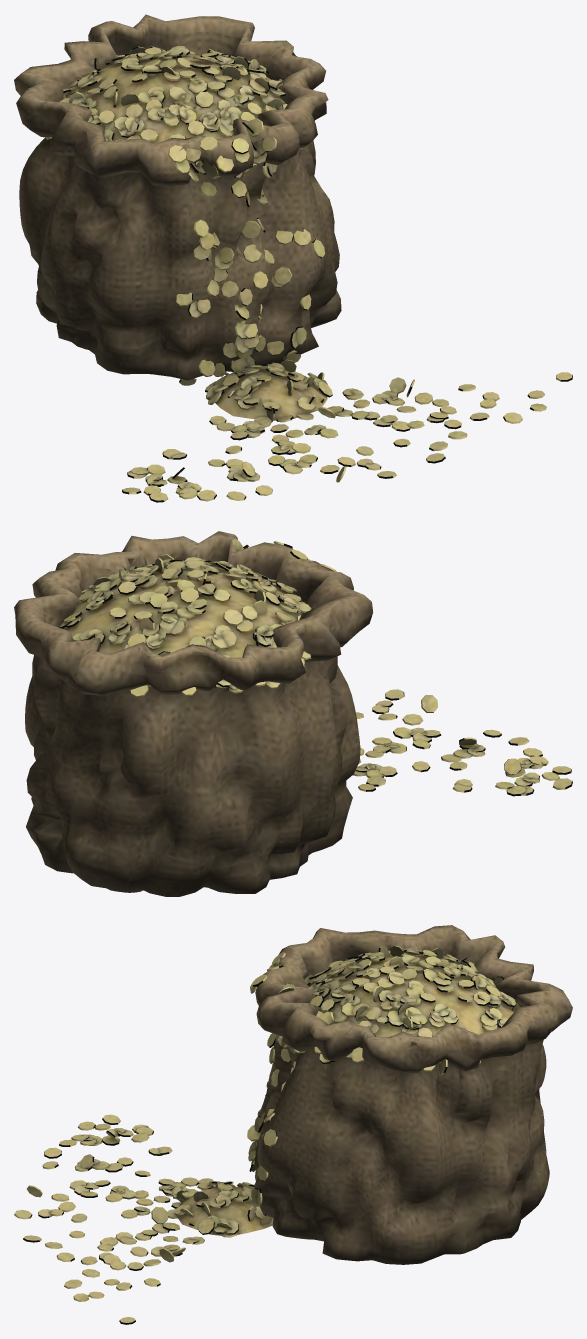
Rendered from sack-open.glb.
3 renders of one model, top to bottom at view 1: azimuth 30°, elevation 25°; view 2: azimuth 150°, elevation 25°; view 3: azimuth 270°, elevation 25°, orthographic. The views are drawn at different scales.
Parts seen in each view (by area): view 1: sack-open, Contents; view 2: sack-open, Contents; view 3: sack-open, Contents.
Part boxes in pixels (x1,y1,x2,y2): sack-open: [14, 14, 341, 380]; Contents: [45, 46, 572, 502]; sack-open: [14, 531, 373, 896]; Contents: [60, 538, 572, 796]; sack-open: [254, 925, 572, 1264]; Contents: [14, 945, 519, 1324].
Size of the model in its own units: 0.6649 by 0.3771 by 0.7527.
1 material, 1 textured.
